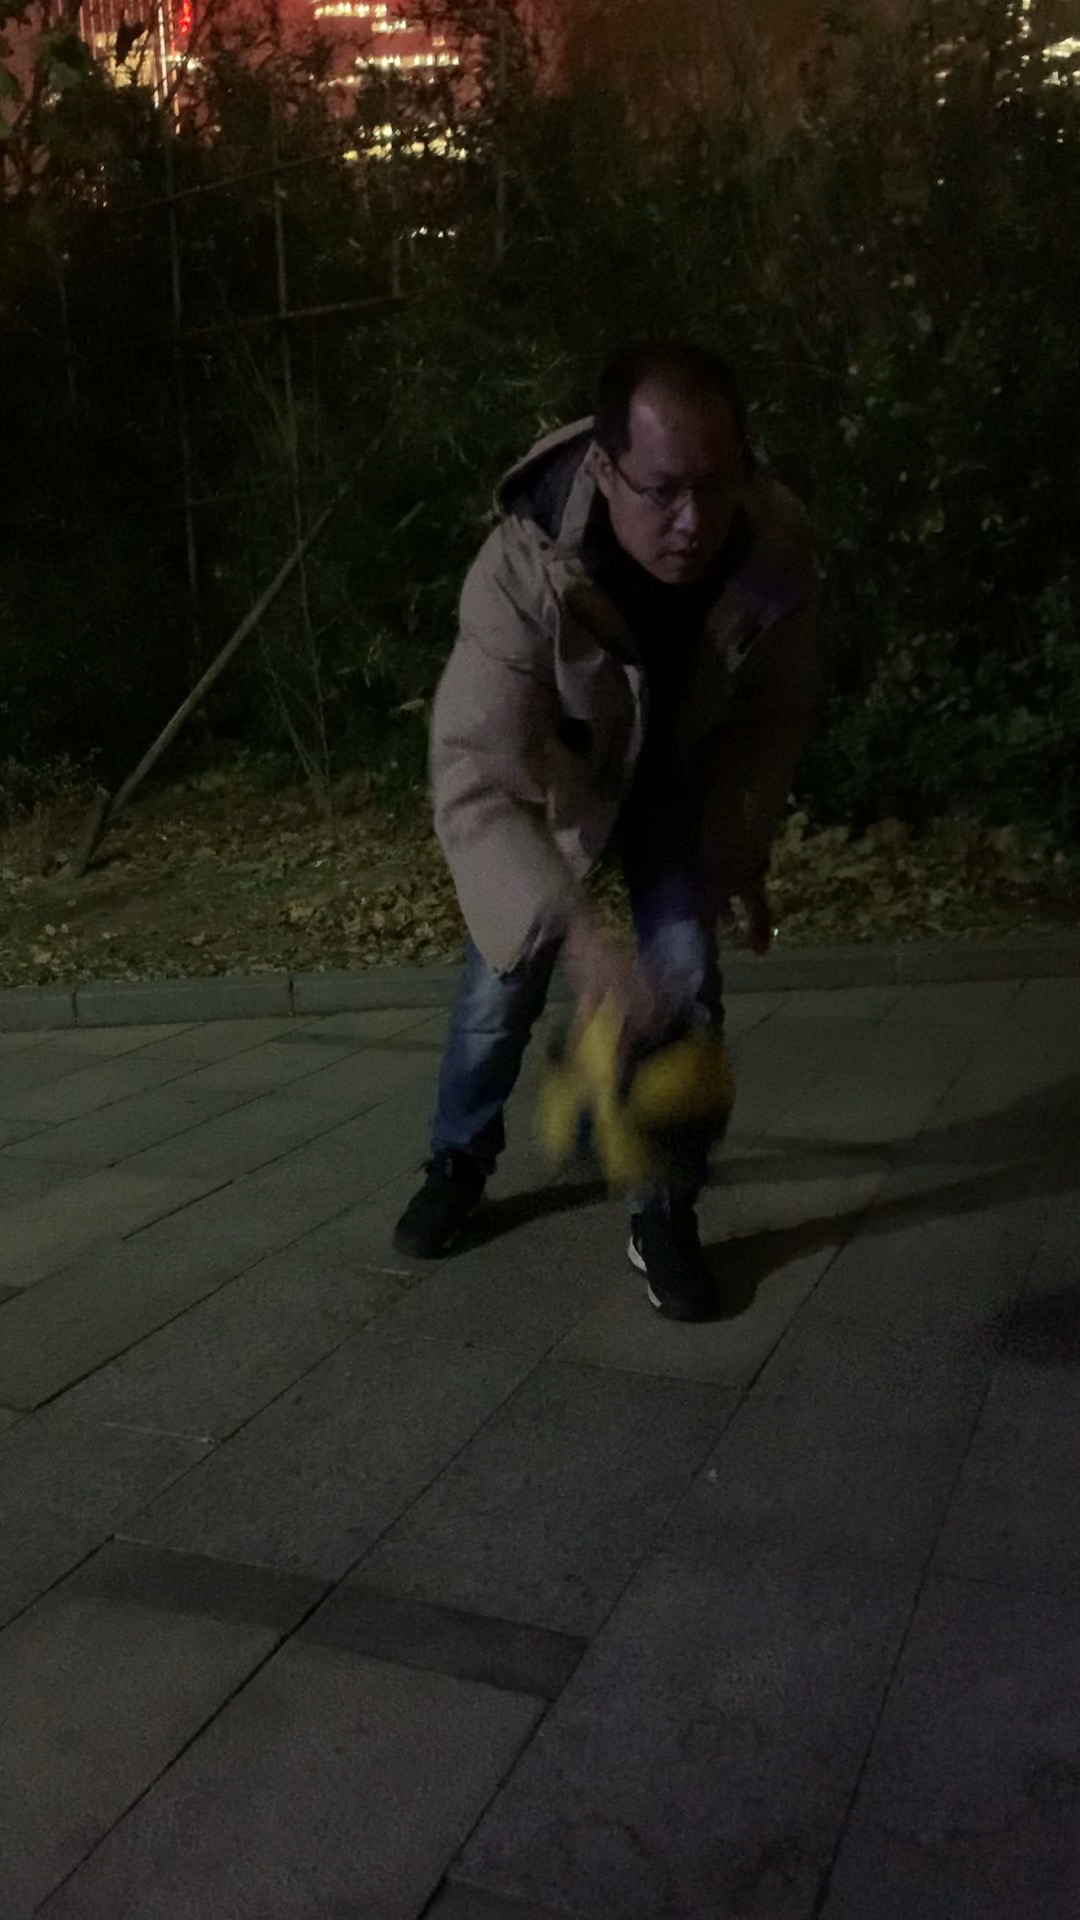ball: (542, 982, 736, 1197)
